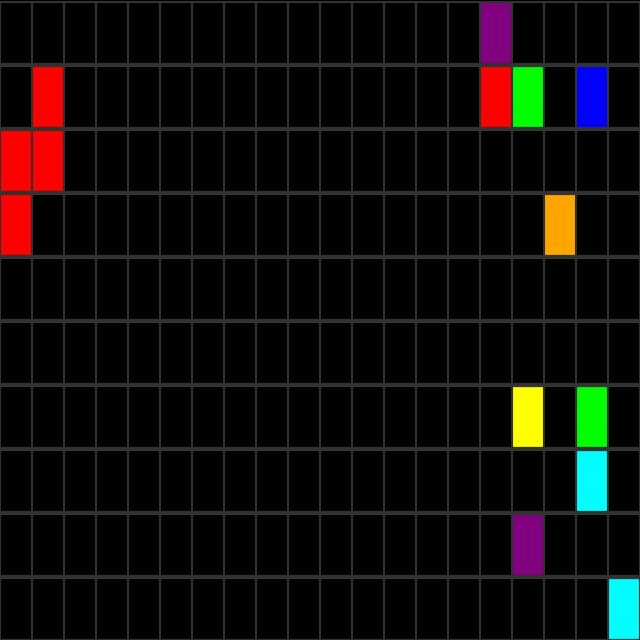Tetrimino_T: (1, 66, 65, 252)
